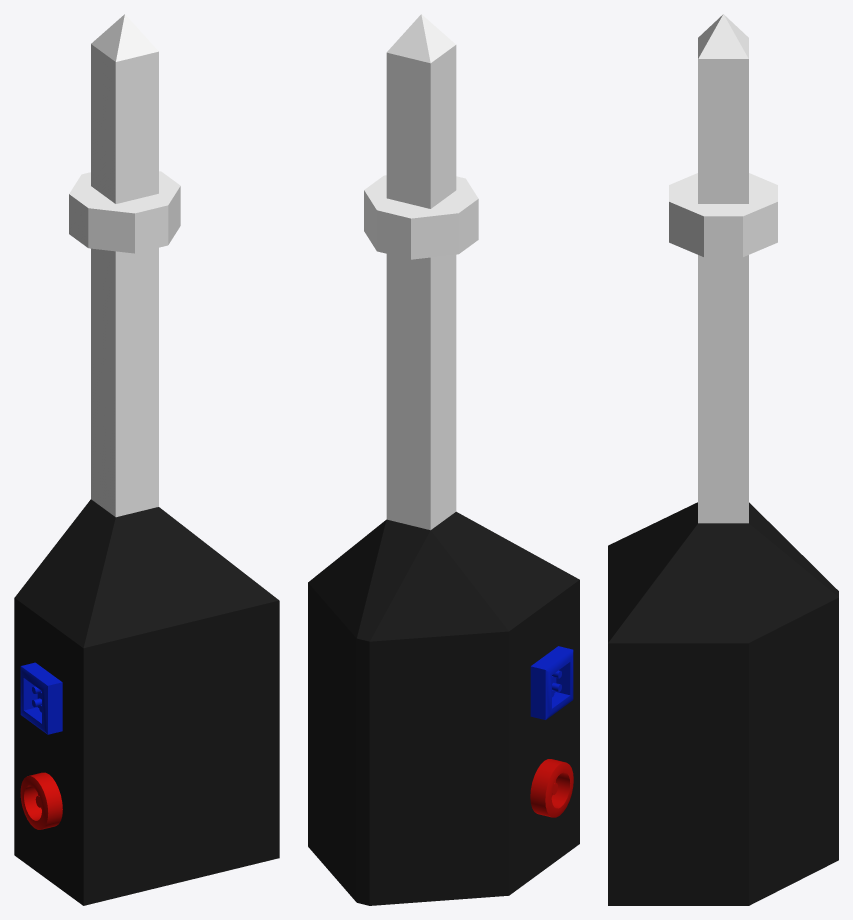
Rendered from Beacon.gltf.
3 views of the same model, side by side, from view 1: azimuth 30°, elevation 25°; view 2: azimuth 150°, elevation 25°; view 3: azimuth 270°, elevation 25° (orthographic). The views are drawn at different scales.
Visible parts, largest first — view 1: beacon; view 2: beacon; view 3: beacon.
Part boxes in pixels (x1=…): beacon: x1=14, y1=14, x2=279, y2=905; beacon: x1=308, y1=14, x2=579, y2=905; beacon: x1=608, y1=14, x2=838, y2=905.
Size of the model in its own units: 0.2706 by 1.01 by 0.25.
